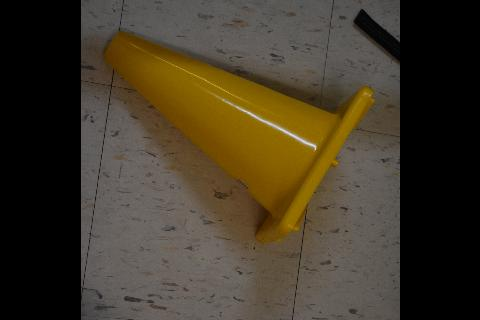cone: (101, 29, 375, 244)
